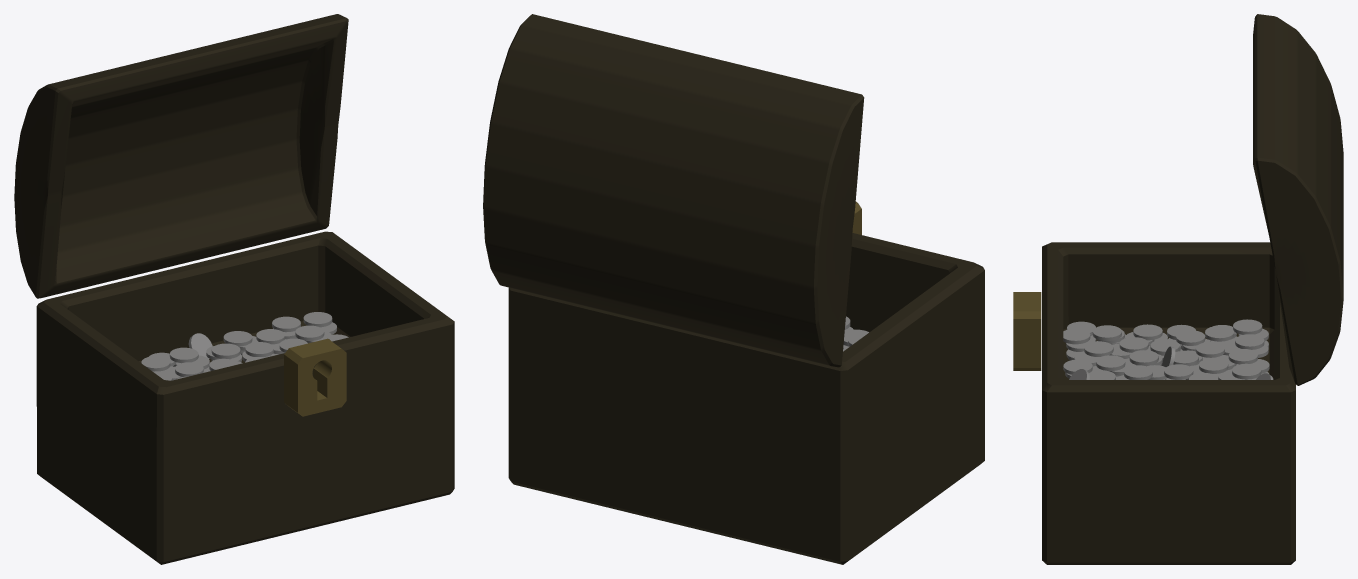
File: chest_open.fbx
3 renders of one model, left to right at view 1: azimuth 30°, elevation 25°; view 2: azimuth 150°, elevation 25°; view 3: azimuth 270°, elevation 25°, orthographic. The views are drawn at different scales.
Parts seen in each view (by area): view 1: Base, Lid, Coins, Lock; view 2: Base, Lid; view 3: Base, Lid, Coins, Lock.
Boxes of the visible parts, box(x1,y1,x2,y2) form: Base: box(36, 231, 454, 564); Lid: box(14, 14, 348, 298); Coins: box(141, 312, 348, 380); Lock: box(284, 338, 346, 416); Base: box(508, 233, 984, 564); Lid: box(483, 14, 864, 367); Base: box(1042, 242, 1295, 564); Lid: box(1253, 14, 1343, 385); Coins: box(1063, 319, 1273, 379); Lock: box(1013, 292, 1041, 370).
Bounding box in the file's own units: 5.33 × 6.85 × 5.03.
